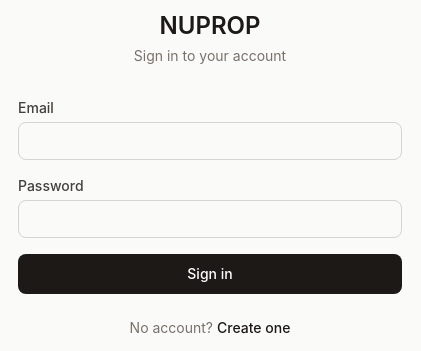
Scenario: LoginPage › disables the submit button while signing in
This screenshot has width=421, height=351.
Step 1. Type "owner@acme.example.com" into the field → (210, 141), box [18,122,402,160]
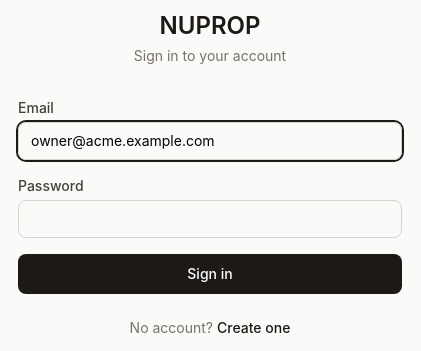
Step 2. Type "pw123456" into the password field → (210, 219), box [18,200,402,238]
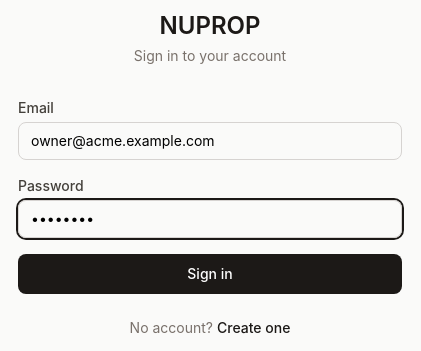
Step 3. Click the button "Sign in" → (210, 274), box [18,254,402,294]
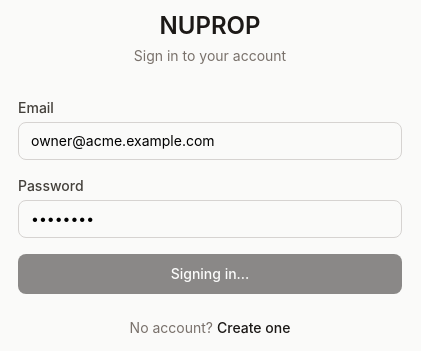
Expected: the button "Signing in..." is disabled, [18,254,402,294]
